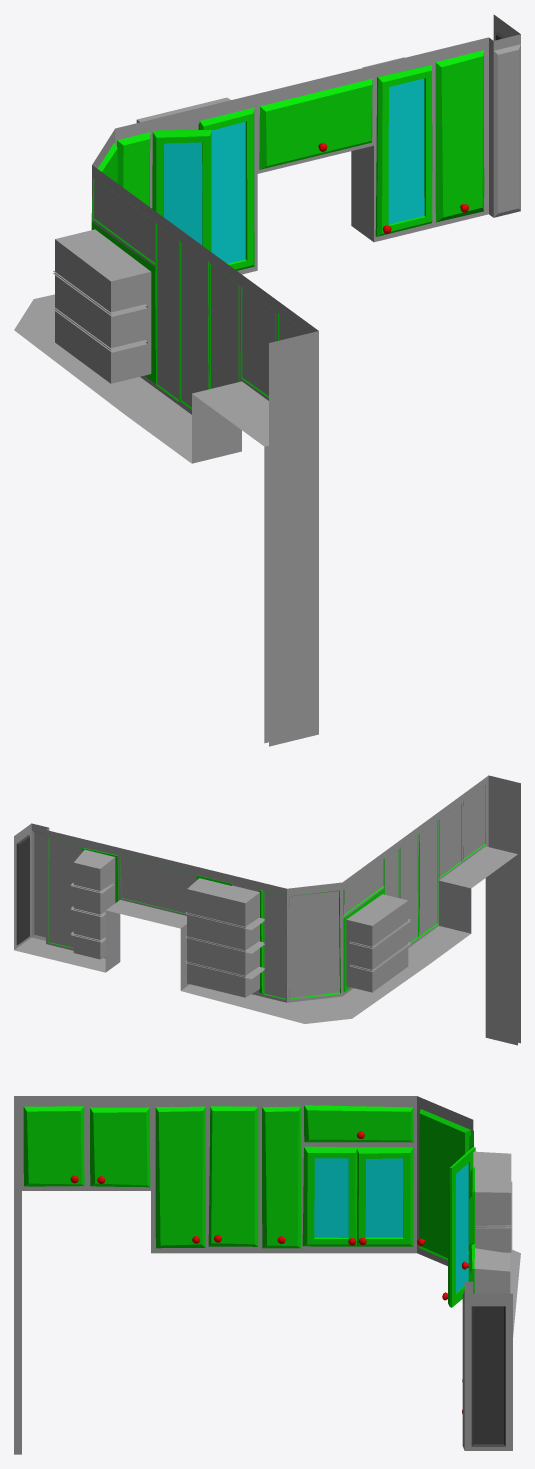
File: Kitchen_CupboardUpper.fbx
3 views of the same model, one above another, from view 1: azimuth 30°, elevation 25°; view 2: azimuth 150°, elevation 25°; view 3: azimuth 270°, elevation 25° (orthographic). The views are drawn at different scales.
Visible parts, largest first — view 1: Kitchen_CupboardUpper; view 2: Kitchen_CupboardUpper; view 3: Kitchen_CupboardUpper.
Part boxes in pixels (box(x1,y1,x2,y2)): Kitchen_CupboardUpper: box(14, 14, 520, 746); Kitchen_CupboardUpper: box(14, 775, 520, 1045); Kitchen_CupboardUpper: box(14, 1096, 520, 1454).
Bounding box in the file's own units: 527 × 402 × 515.
